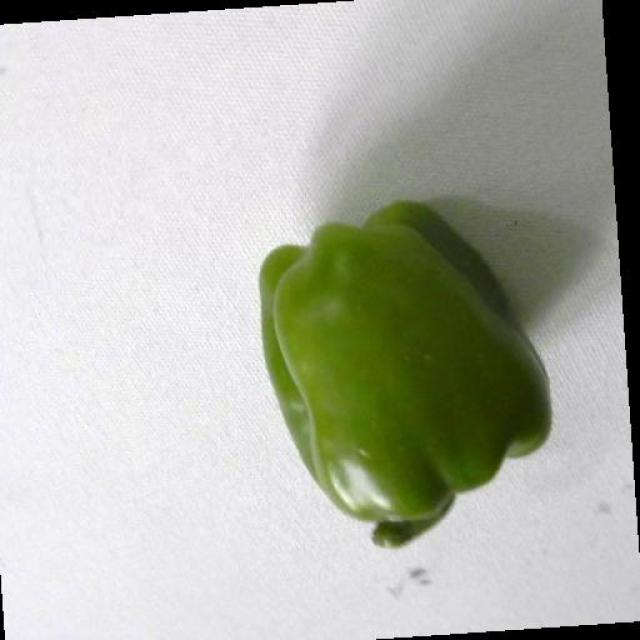Fresh_Capsicum: (242, 257, 552, 519)
